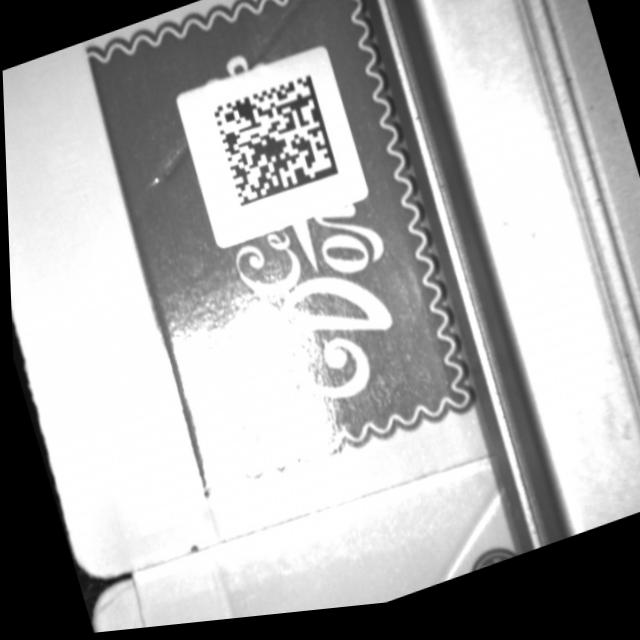datamatrix: (211, 77, 339, 216)
